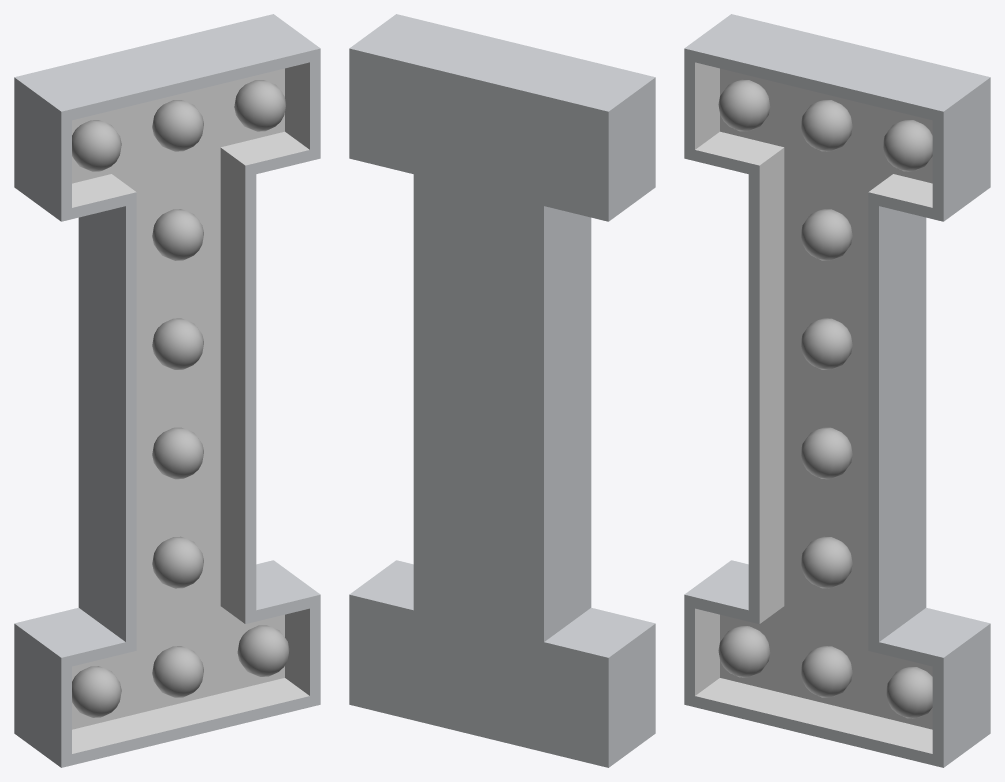
The model's file is LettersBulb01_I.FBX.
3 renders of one model, left to right at view 1: azimuth 30°, elevation 25°; view 2: azimuth 150°, elevation 25°; view 3: azimuth 330°, elevation 25°, orthographic.
Visible parts, largest first — view 1: LettersBulb01_I; view 2: LettersBulb01_I; view 3: LettersBulb01_I.
Part boxes in pixels (x1=…): LettersBulb01_I: x1=14, y1=14, x2=320, y2=767; LettersBulb01_I: x1=349, y1=14, x2=655, y2=767; LettersBulb01_I: x1=684, y1=14, x2=990, y2=767.
Size of what is drawn, in the model's own units: 0.4944 by 1.2 by 0.1563.
